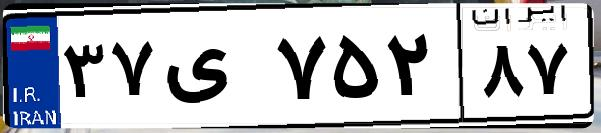2: (385, 28, 445, 110)
3: (57, 26, 110, 100)
5: (330, 28, 385, 110)
7: (270, 28, 330, 110), (525, 38, 570, 115), (110, 28, 158, 98)
8: (475, 38, 525, 113)
ی: (158, 20, 270, 120)
